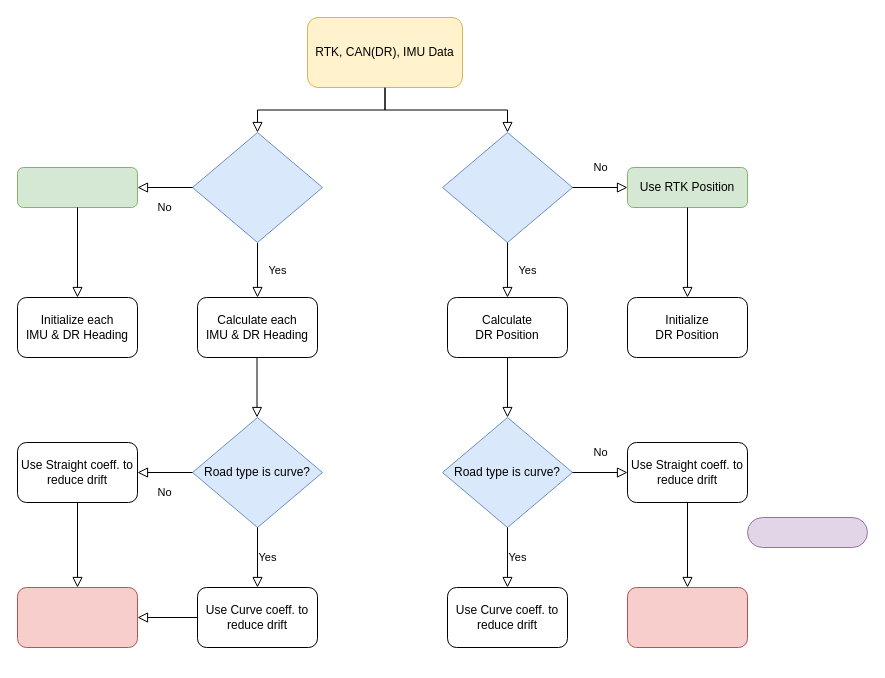
The diagram is 885 pixels wide and 678 high, and some of its shapes have lost their labels. Each missing label, with the centre of its shape:
RTK Heading is wrong?: (x=257, y=187)
RTK Position is wrong?: (x=507, y=187)
To be revised..: (x=807, y=532)
Use DR Heading: (x=687, y=617)
Use IMU+DR Heading: (x=77, y=617)
Use RTK Heading: (x=77, y=187)
